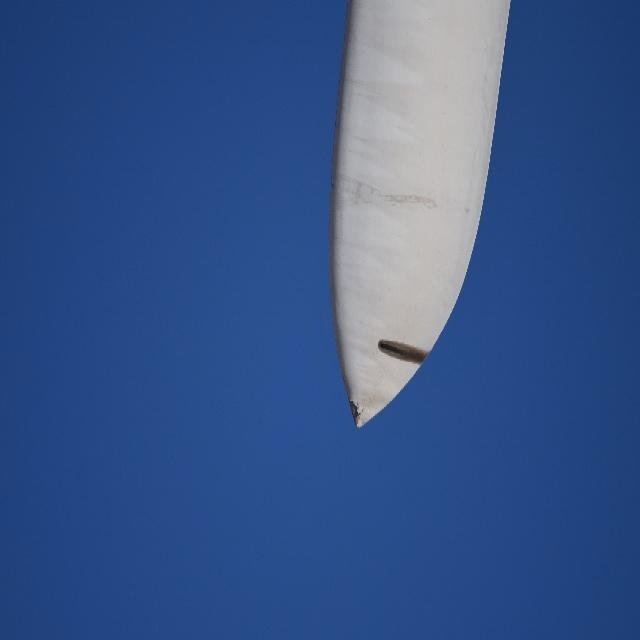Burn Mark: (378, 336, 431, 366)
Coating_defects: (343, 397, 366, 427)
